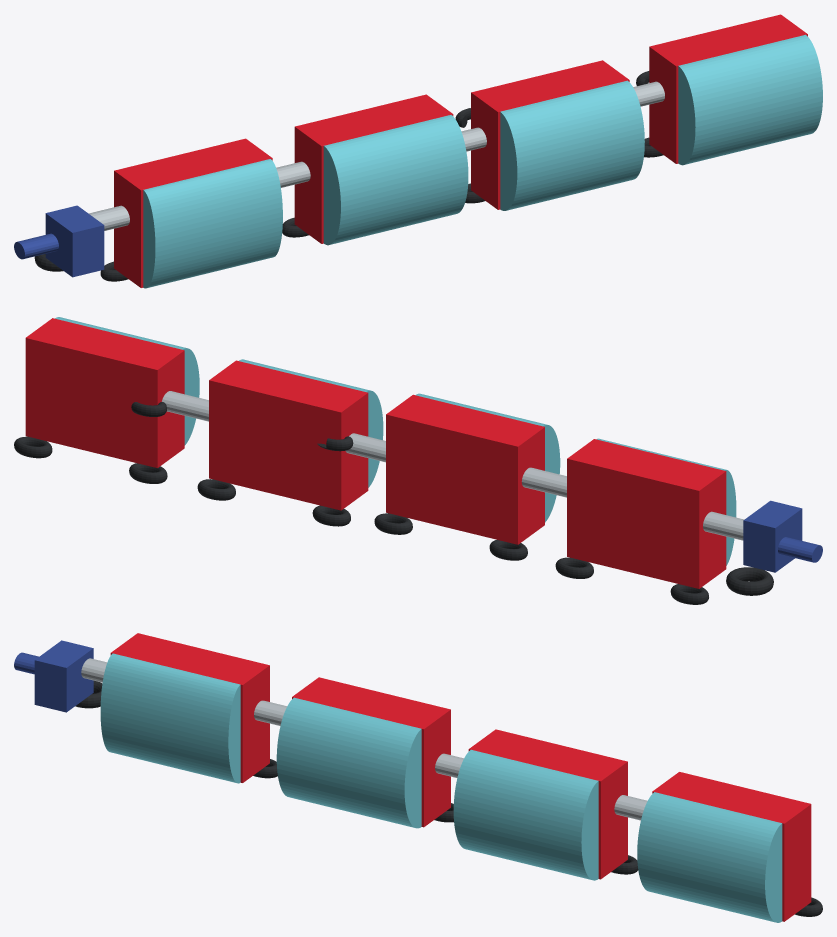
File: tinker.obj
3 renders of one model, top to bottom at view 1: azimuth 30°, elevation 25°; view 2: azimuth 150°, elevation 25°; view 3: azimuth 330°, elevation 25°, orthographic.
Visible parts, largest first — view 1: group_0_7720667, group_0_15277357, group_0_3888547, group_0_12568524, group_0_2829873; view 2: group_0_15277357, group_0_2829873, group_0_7720667, group_0_3888547, group_0_12568524; view 3: group_0_7720667, group_0_15277357, group_0_3888547, group_0_12568524, group_0_2829873.
Boxes of the visible parts, x1,y1,x2,y2 form: group_0_7720667: (143,34,822,288); group_0_15277357: (114,14,807,287); group_0_3888547: (14,205,104,277); group_0_12568524: (89,81,664,230); group_0_2829873: (34,71,663,281); group_0_15277357: (25,318,726,588); group_0_2829873: (14,402,773,604); group_0_7720667: (55,317,736,565); group_0_3888547: (743,500,822,572); group_0_12568524: (162,391,744,540); group_0_7720667: (100,653,782,922); group_0_15277357: (110,633,811,921); group_0_3888547: (14,640,93,712); group_0_12568524: (81,658,647,820); group_0_2829873: (75,680,822,916).
Bounding box in the file's own units: 369 × 54 × 47.
